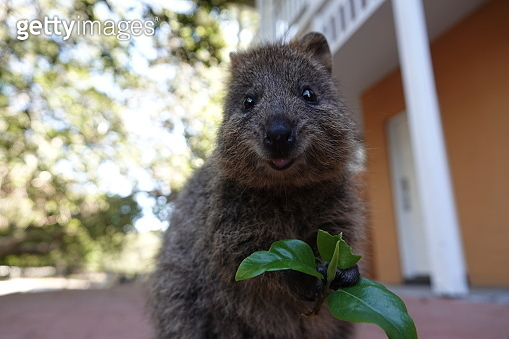quokka: (148, 26, 385, 339)
